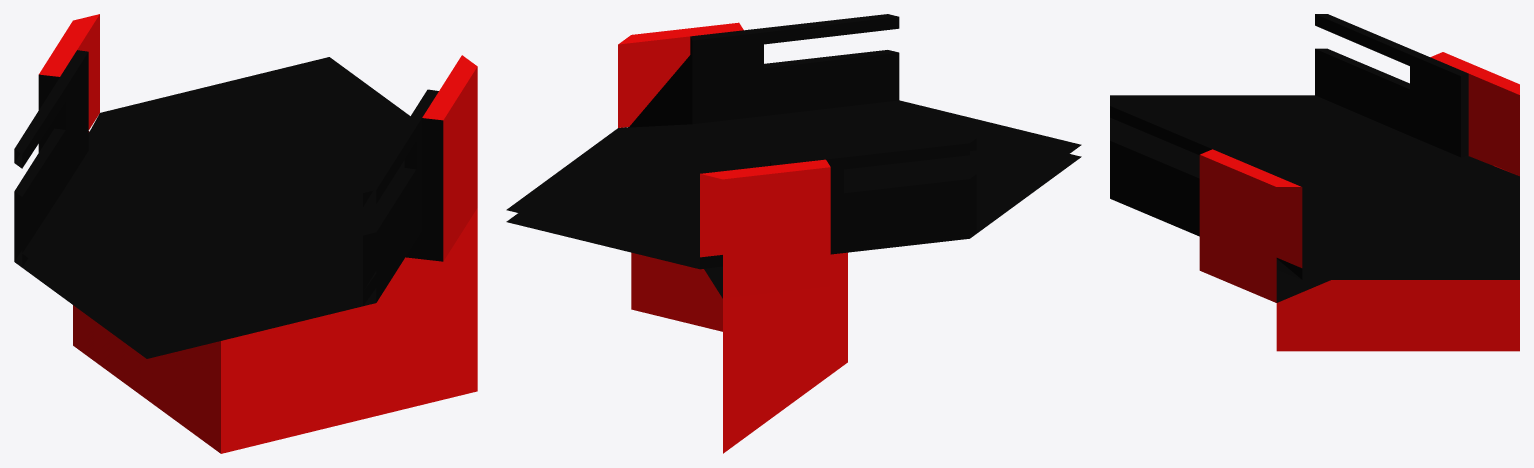
3 views of the same model, side by side, from view 1: azimuth 30°, elevation 25°; view 2: azimuth 150°, elevation 25°; view 3: azimuth 270°, elevation 25° (orthographic). The views are drawn at different scales.
Parts seen in each view (by area): view 1: None_W_E_E_E_E_P_E_E_None; view 2: None_W_E_E_E_E_P_E_E_None; view 3: None_W_E_E_E_E_P_E_E_None.
Part boxes in pixels (x1,y1,x2,y2): None_W_E_E_E_E_P_E_E_None: (14,14,477,453); None_W_E_E_E_E_P_E_E_None: (506,14,1081,453); None_W_E_E_E_E_P_E_E_None: (1110,14,1519,351).
Bounding box in the file's own units: 100 × 71.88 × 100.
